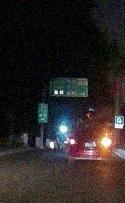L_light: (70, 139, 81, 145)
R_light: (99, 139, 111, 144)
T_light: (86, 131, 93, 132)
night-right: (68, 129, 112, 166)
